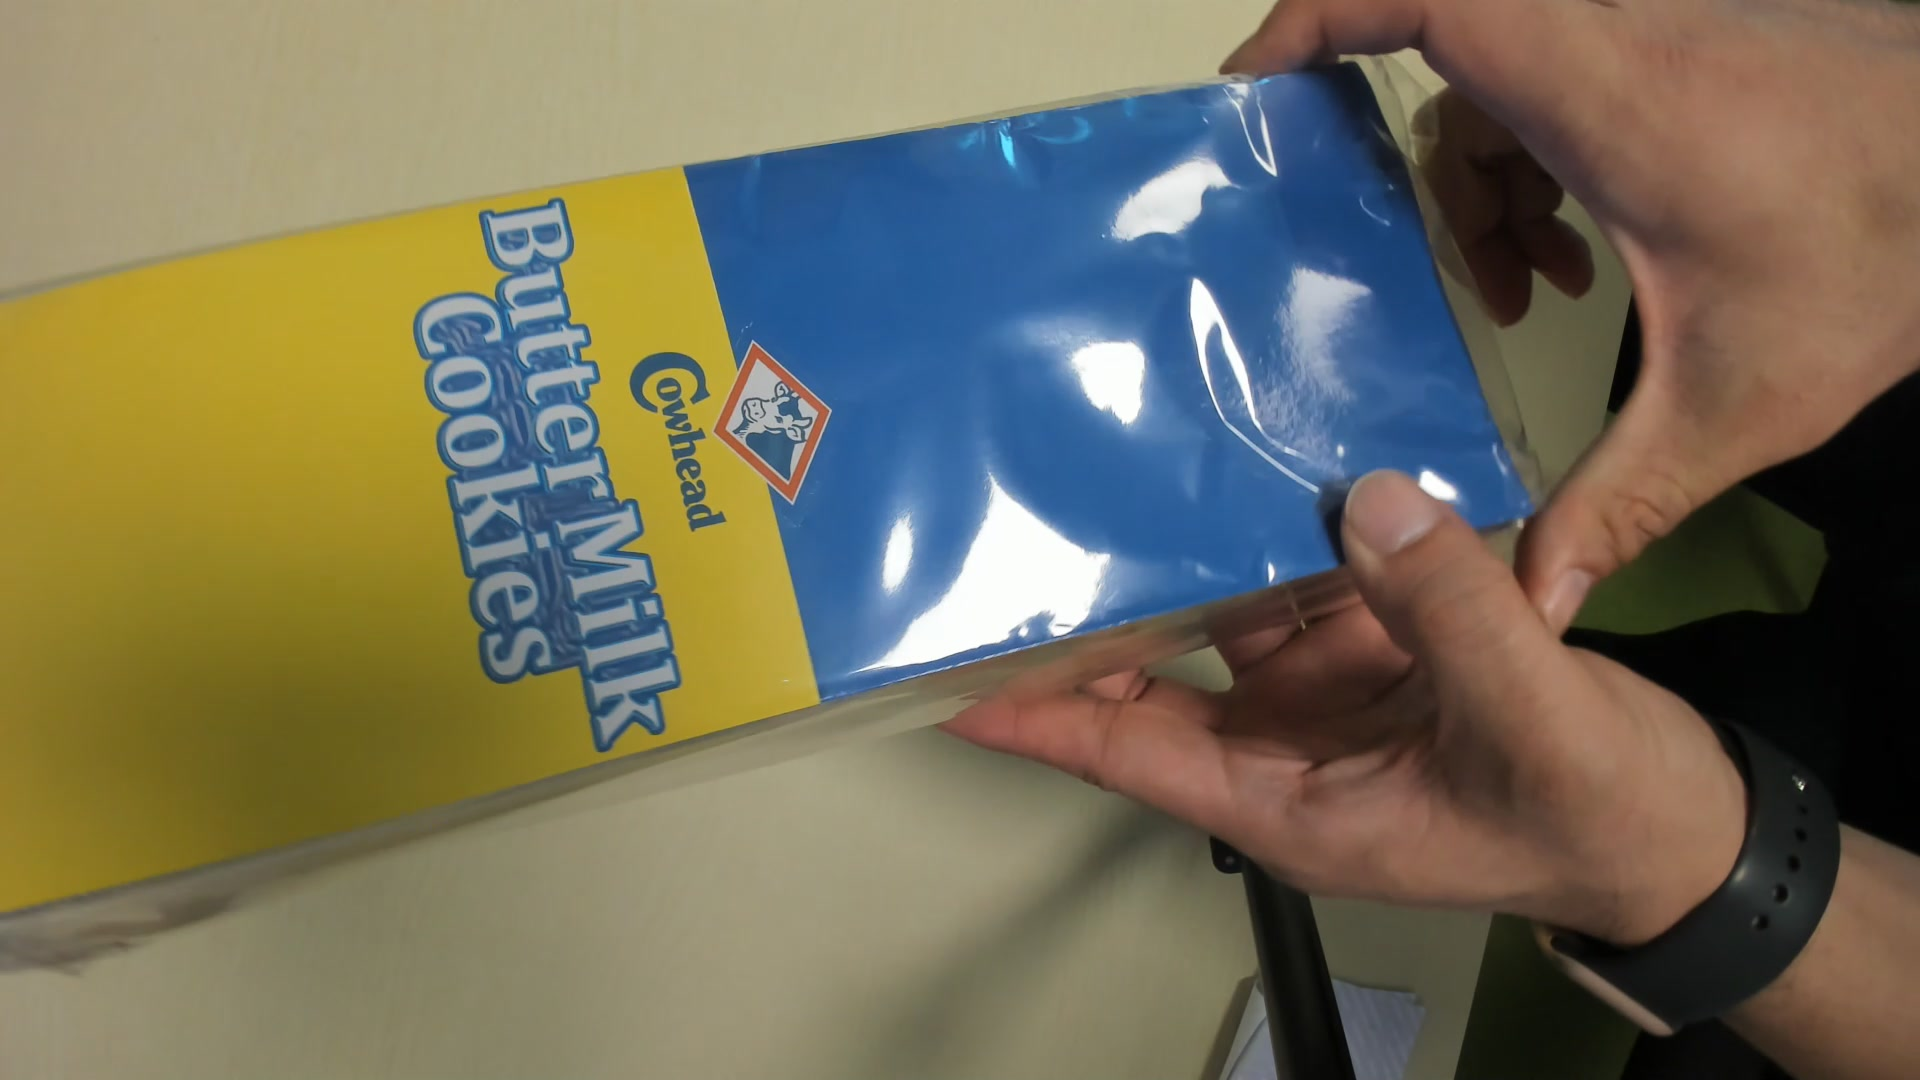SweetsChocolatesOthers_200-299g_Halal_Nonhealthy: (13, 73, 1542, 961)
